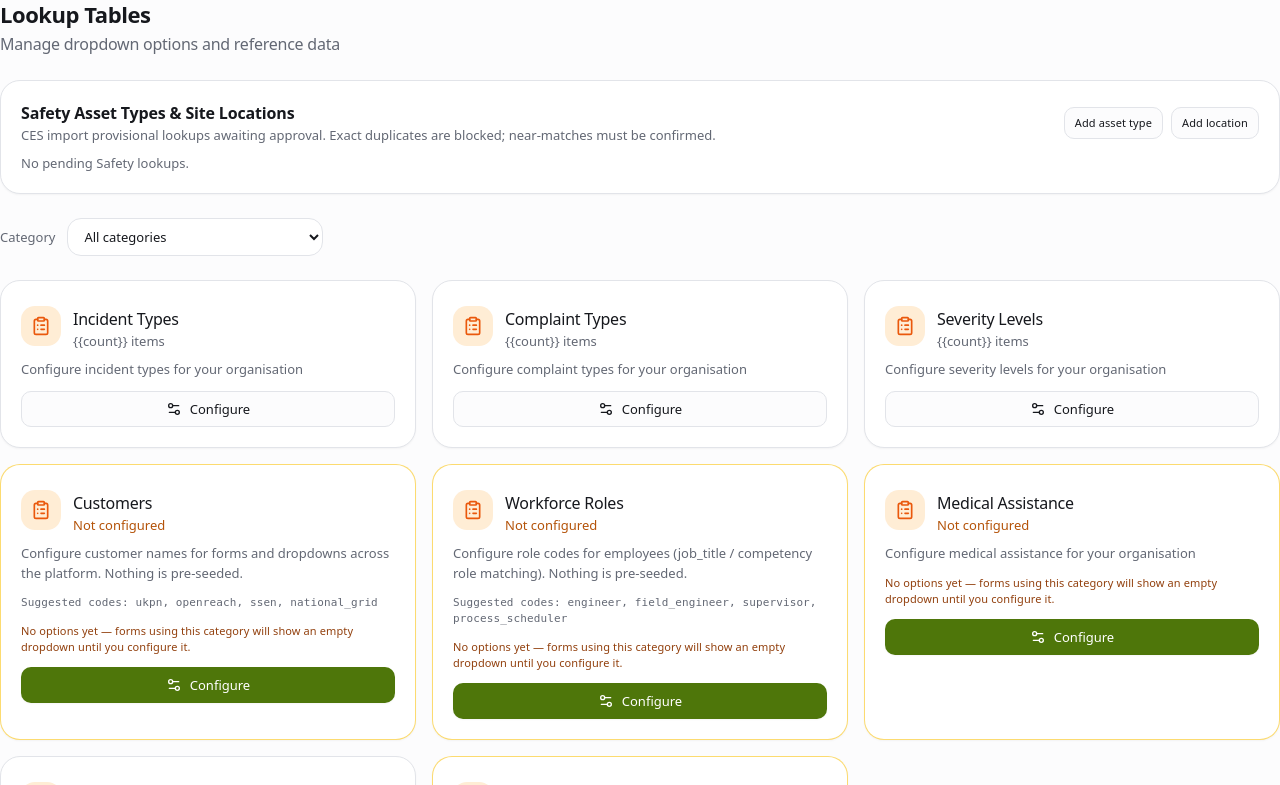
Test: LookupTables configure CTA › opens workforce_roles editor and shows standard code hints when empty
The width and height of the screenshot is (1280, 785).
What coordinates should you click on to do the following:
click the button with test id "lookup-configure-workforce_roles"
I would click on:
 (640, 701)
Its box is [453, 683, 827, 719].
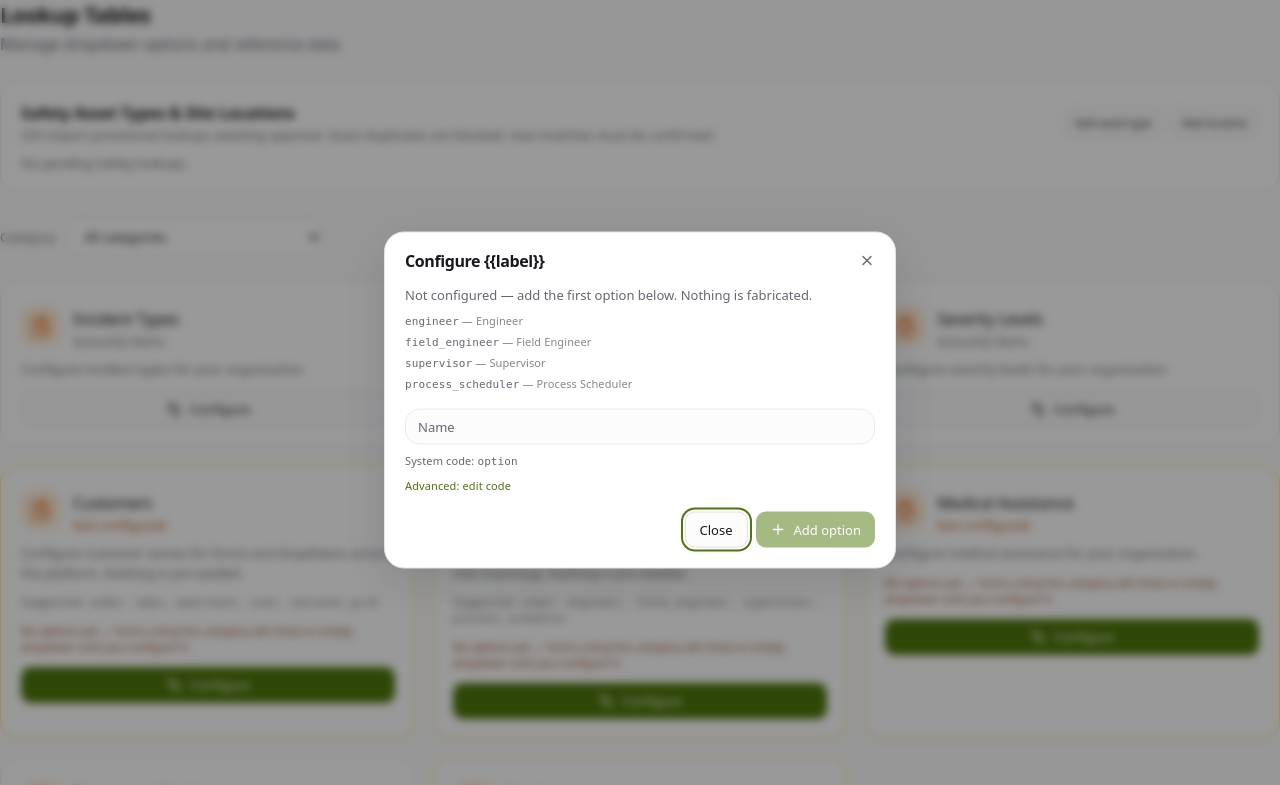
Expected: the dialog with test id "lookup-editor-dialog" is shown, [384, 232, 896, 568]
Expected: the list with test id "lookup-editor-workforce-role-hints" shows "field_engineer", [405, 336, 499, 348]
Expected: the list with test id "lookup-editor-workforce-role-hints" shows "process_scheduler", [405, 378, 520, 390]
